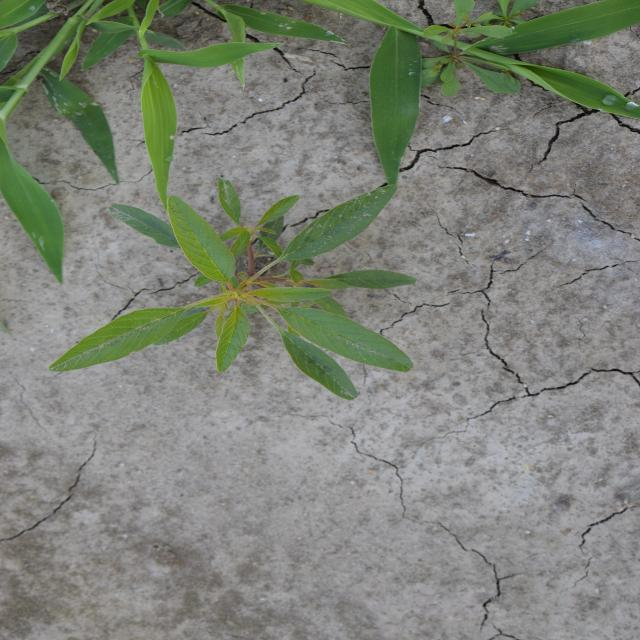Carpetweed: (416, 0, 542, 97)
Waterhemp: (47, 177, 420, 402)
